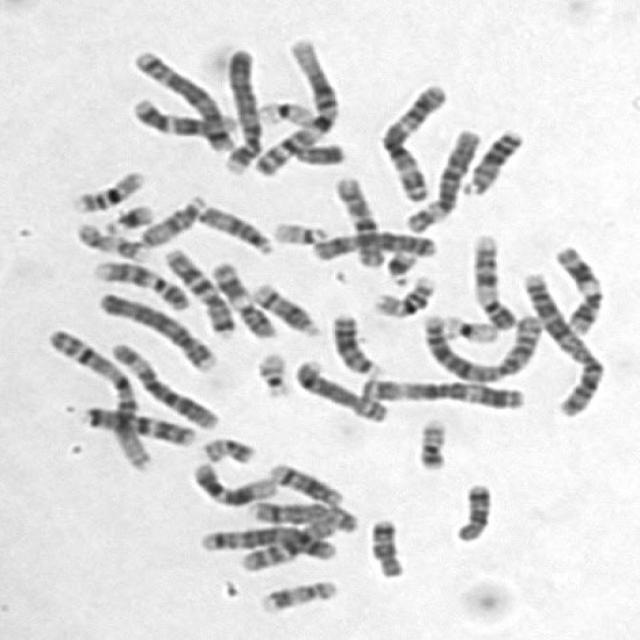A1: (38, 320, 155, 474), (247, 32, 343, 176)
A2: (514, 264, 608, 418), (414, 303, 546, 383)
A3: (370, 76, 450, 202), (351, 369, 527, 412)
B4: (90, 283, 219, 373), (214, 38, 264, 175)
B5: (124, 41, 235, 152), (190, 518, 340, 561)
C10: (232, 513, 338, 574), (327, 168, 388, 270)
C11: (204, 254, 279, 340), (546, 237, 606, 336)
C12: (124, 88, 241, 144), (184, 455, 278, 508)
C6: (102, 333, 221, 431), (398, 120, 484, 234)
C7: (156, 240, 238, 338), (75, 397, 199, 447)
C8: (286, 352, 392, 424), (244, 492, 361, 534)
C9: (86, 254, 192, 312), (463, 225, 519, 331)
D13: (454, 121, 526, 196), (323, 304, 384, 378)
D14: (245, 275, 323, 338), (261, 456, 346, 506)
D15: (190, 198, 276, 255), (132, 188, 208, 249)
E16: (64, 162, 147, 214), (365, 267, 438, 320)
E17: (68, 215, 153, 264), (250, 572, 340, 616)
E18: (446, 475, 494, 544), (361, 510, 407, 580)
F19: (434, 308, 502, 345), (249, 92, 317, 128)
F20: (408, 411, 451, 472), (193, 428, 259, 464)
G21: (95, 196, 157, 236), (378, 242, 419, 284)
G22: (248, 344, 293, 398), (264, 214, 330, 245)
X: (302, 223, 441, 263)
Y: (287, 135, 346, 166)
